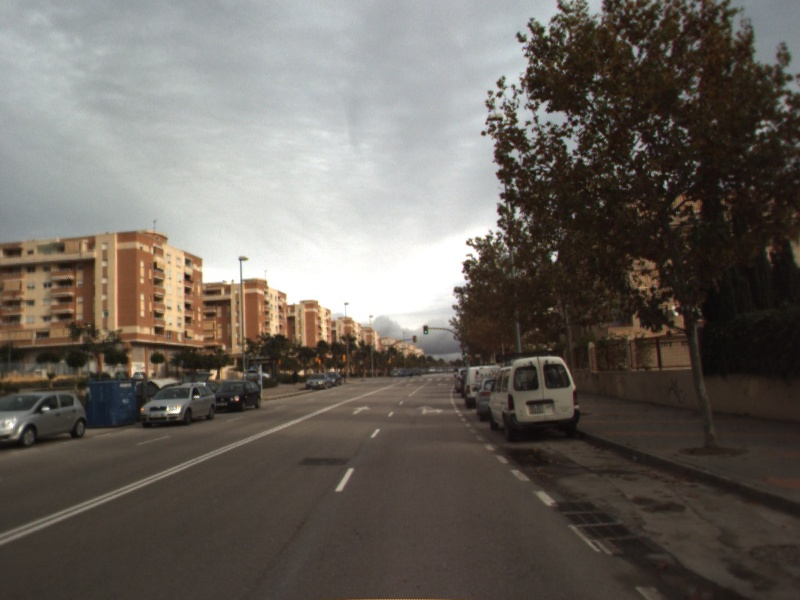STRAIGHT: (350, 403, 373, 416)
STRAIGHT_RIGHT: (415, 403, 446, 416)
